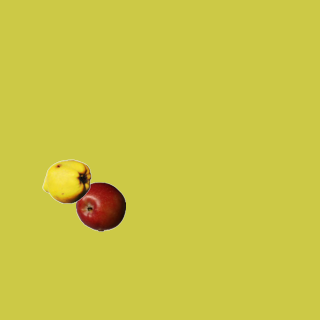Apple Braeburn: (75, 181, 125, 231)
Quince: (41, 156, 91, 206)
